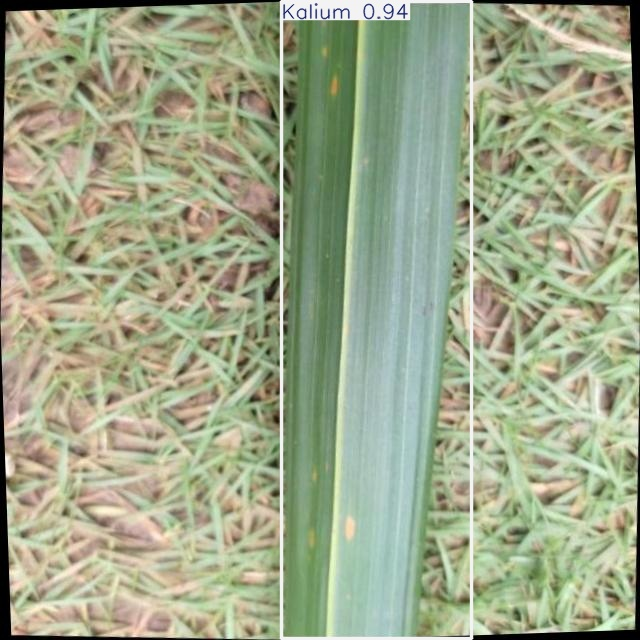Kalium: (281, 2, 472, 639)
